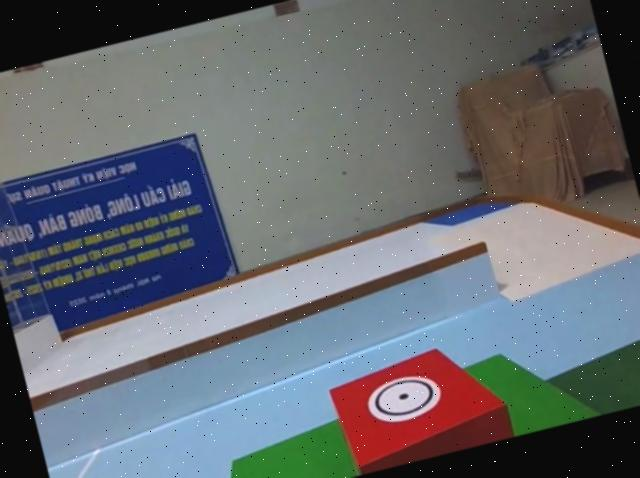R2 Real: (326, 333, 517, 478)
